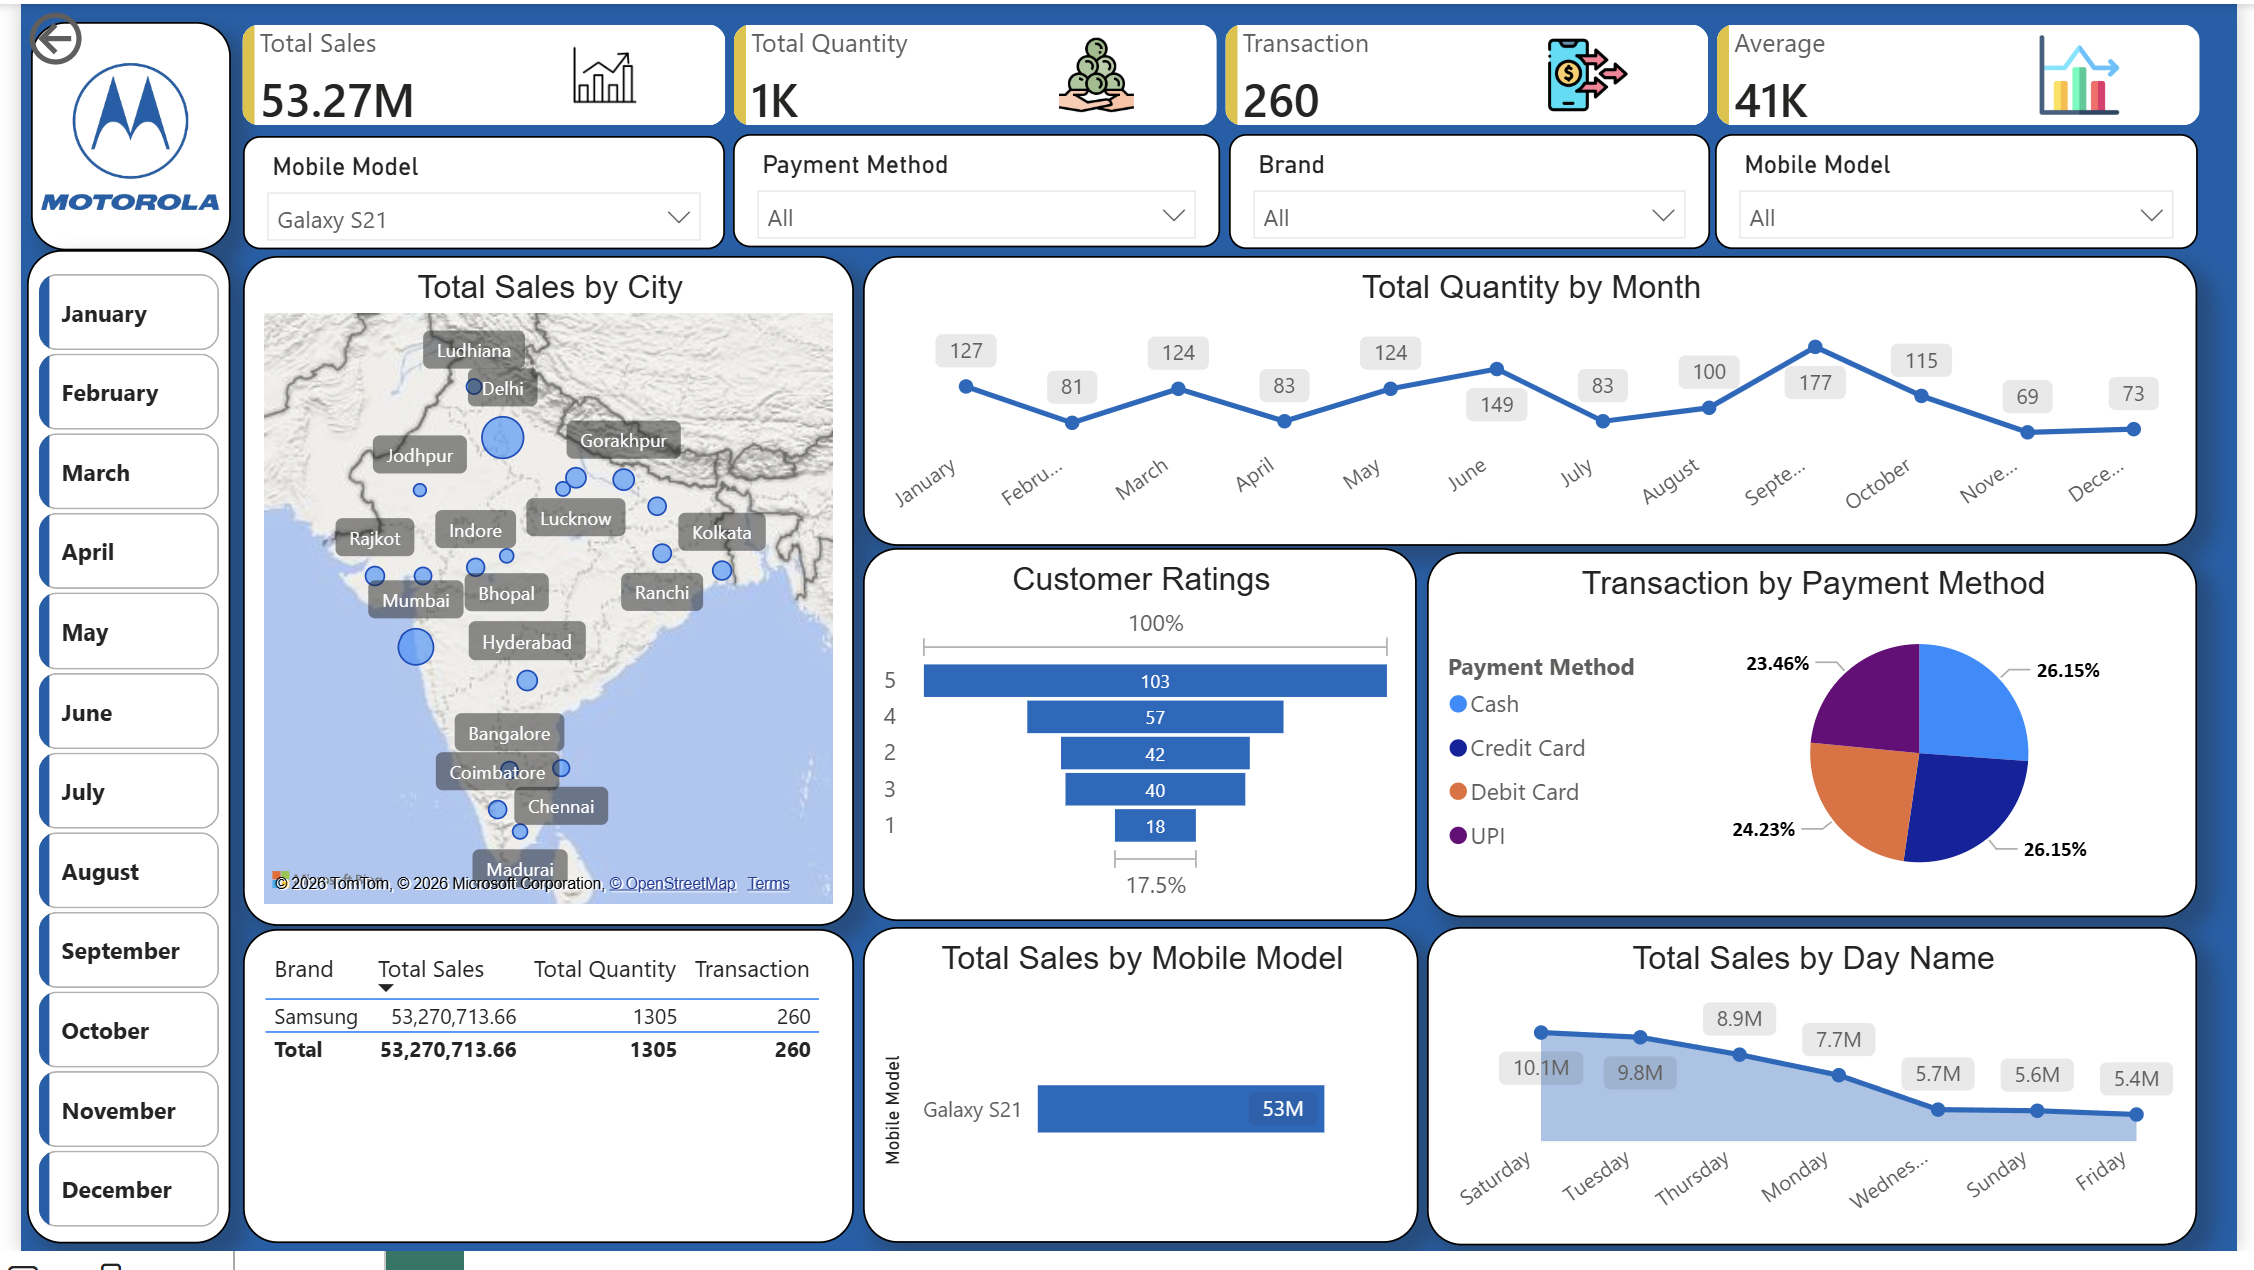

This screenshot's page, from the dashboard's own definition file:
{"tool":"powerbi","page":{"name":"Page 1","canvas":[1280,720],"ordinal":0},"visuals":[{"type":"shape","box":[5.7,10,115.7,132.1],"z":0},{"type":"image","box":[11.4,22.9,102.9,107.1],"z":1000},{"type":"shape","box":[4,142.7,117.3,573.3],"z":2000},{"type":"advancedSlicerVisual","fields":{"Values":["Sales_Data.Date.Variation.Date Hierarchy.Month"]},"box":[10.7,156,104,552.7],"z":3000},{"type":"cardVisual","fields":{"Data":["Sales_Data.Total Sales","Sales_Data.Total Quantity","Sales_Data.Transaction","Sales_Data.Average"]},"box":[111.4,0,1167.1,82.9],"z":4000},{"type":"map","fields":{"Size":["Sales_Data.Total Sales"],"Category":["Sales_Data.City"]},"box":[128.4,145.7,353.1,386.4],"z":5000},{"type":"lineChart","fields":{"Category":["Sales_Data.Date.Variation.Date Hierarchy.Month","Sales_Data.Date.Variation.Date Hierarchy.Day"],"Y":["Sales_Data.Total Quantity"]},"box":[486.5,145.6,770.9,167.6],"z":6000},{"type":"clusteredBarChart","fields":{"Category":["Sales_Data.Mobile Model"],"Y":["Sales_Data.Total Sales"]},"box":[486.4,533.3,321,182.7],"z":7000},{"type":"pieChart","fields":{"Category":["Sales_Data.Payment Method"],"Y":["Sales_Data.Transaction"]},"box":[812.5,316.7,444.9,210.3],"z":8000},{"type":"funnel","title":"Customer Ratings ","fields":{"Category":["Sales_Data.Customer Ratings"],"Y":["CountNonNull(Sales_Data.Customer Ratings)"]},"box":[486.4,314.8,319.8,214.8],"z":9000},{"type":"areaChart","fields":{"Category":["Sales_Data.Day Name"],"Y":["Sales_Data.Total Sales"]},"box":[812.5,532.8,444.9,183.8],"z":10000},{"type":"tableEx","fields":{"Values":["Sales_Data.Brand","Sales_Data.Total Sales","Sales_Data.Total Quantity","Sales_Data.Transaction"]},"box":[128.6,534.3,352.9,181.4],"z":11000},{"type":"actionButton","box":[0,0,100,40],"z":12000},{"type":"slicer","fields":{"Values":["Sales_Data.Mobile Model"]},"box":[128.6,75.7,278.6,65.7],"z":13000},{"type":"slicer","fields":{"Values":["Sales_Data.Brand"]},"box":[697.5,75.3,277.8,66.7],"z":14000},{"type":"slicer","fields":{"Values":["Sales_Data.Payment Method"]},"box":[411.1,75.3,281.5,65.4],"z":15000},{"type":"slicer","fields":{"Values":["Sales_Data.Mobile Model"]},"box":[979,75.3,279,66.7],"z":16000}]}

Visuals, with their boxes in screenshot pixels (x1, y1, x2, y2), scaled from the page's 1280x720 canvas onto the 2254x1270 screenshot:
shape: {"left": 10, "top": 18, "right": 214, "bottom": 251}
image: {"left": 20, "top": 40, "right": 201, "bottom": 229}
shape: {"left": 7, "top": 252, "right": 214, "bottom": 1263}
advancedSlicerVisual - Sales_Data.Date.Variation.Date Hierarchy.Month: {"left": 19, "top": 275, "right": 202, "bottom": 1250}
cardVisual - Sales_Data.Total Sales x Sales_Data.Total Quantity: {"left": 196, "top": 0, "right": 2251, "bottom": 146}
map - Sales_Data.Total Sales x Sales_Data.City: {"left": 226, "top": 257, "right": 848, "bottom": 939}
lineChart - Sales_Data.Date.Variation.Date Hierarchy.Month x Sales_Data.Date.Variation.Date Hierarchy.Day: {"left": 857, "top": 257, "right": 2214, "bottom": 552}
clusteredBarChart - Sales_Data.Mobile Model x Sales_Data.Total Sales: {"left": 857, "top": 941, "right": 1422, "bottom": 1263}
pieChart - Sales_Data.Payment Method x Sales_Data.Transaction: {"left": 1431, "top": 559, "right": 2214, "bottom": 930}
"Customer Ratings " funnel: {"left": 857, "top": 555, "right": 1420, "bottom": 934}
areaChart - Sales_Data.Day Name x Sales_Data.Total Sales: {"left": 1431, "top": 940, "right": 2214, "bottom": 1264}
tableEx - Sales_Data.Brand x Sales_Data.Total Sales: {"left": 226, "top": 942, "right": 848, "bottom": 1262}
actionButton: {"left": 0, "top": 0, "right": 176, "bottom": 71}
slicer - Sales_Data.Mobile Model: {"left": 226, "top": 134, "right": 717, "bottom": 249}
slicer - Sales_Data.Brand: {"left": 1228, "top": 133, "right": 1717, "bottom": 250}
slicer - Sales_Data.Payment Method: {"left": 724, "top": 133, "right": 1220, "bottom": 248}
slicer - Sales_Data.Mobile Model: {"left": 1724, "top": 133, "right": 2215, "bottom": 250}
